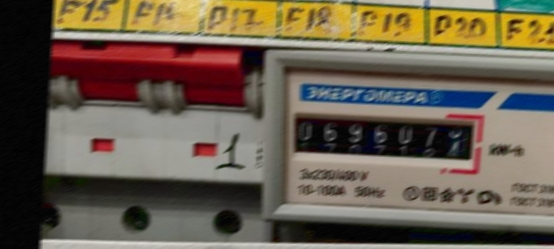0: (396, 124, 412, 147), (296, 121, 311, 143)
4: (445, 140, 459, 161)
6: (321, 121, 336, 143), (371, 124, 386, 145)
7: (421, 127, 437, 149)
9: (346, 123, 360, 145)
screen: (278, 103, 487, 174)
